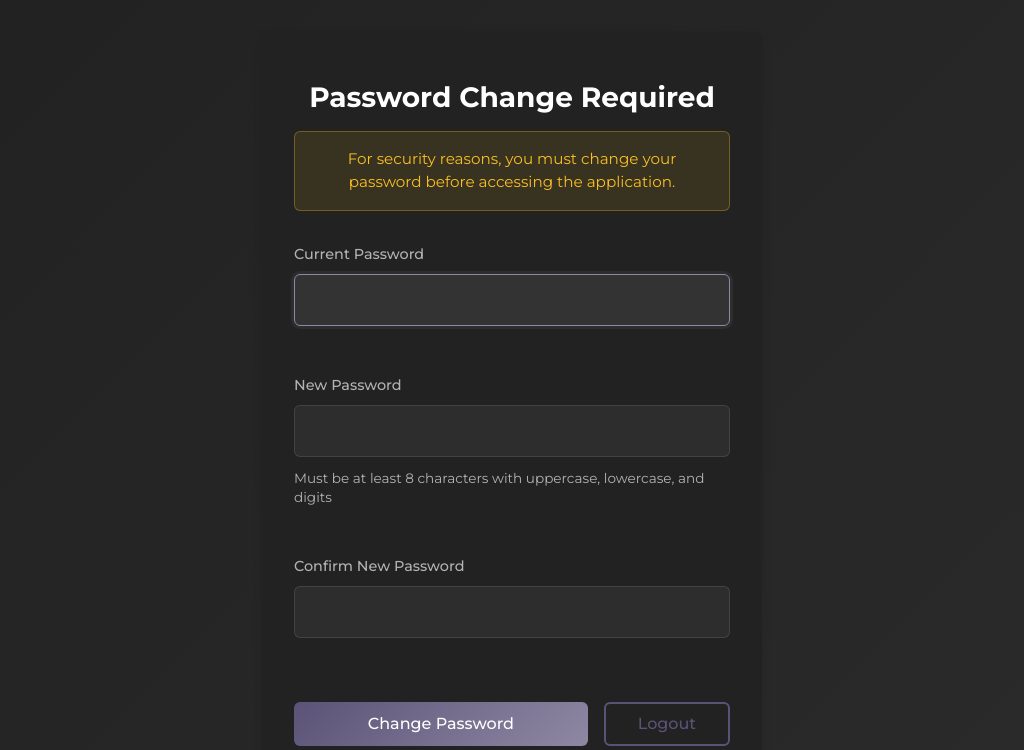
it: ForcePasswordChangePage › Validation › shows error when password is less than 8 characters
Type "OldPass1" into the password field labelled "Current Password" at {"x": 512, "y": 300}, box [294, 274, 730, 326]
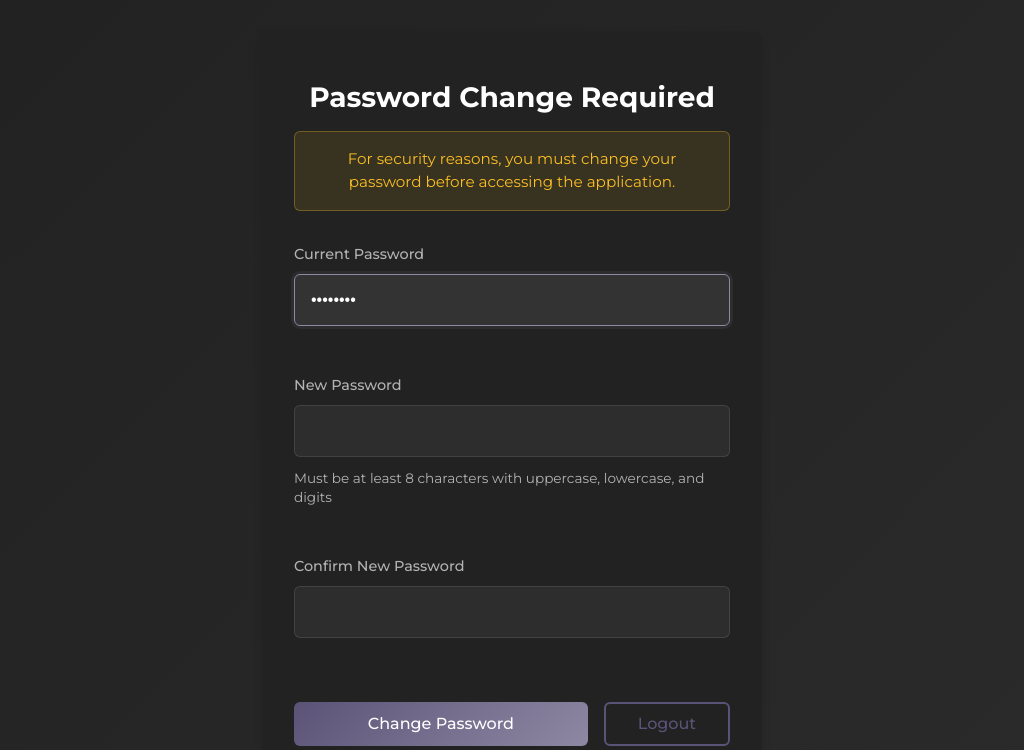
Type "Short1" into the password field labelled "New Password" at {"x": 512, "y": 431}, box [294, 405, 730, 457]
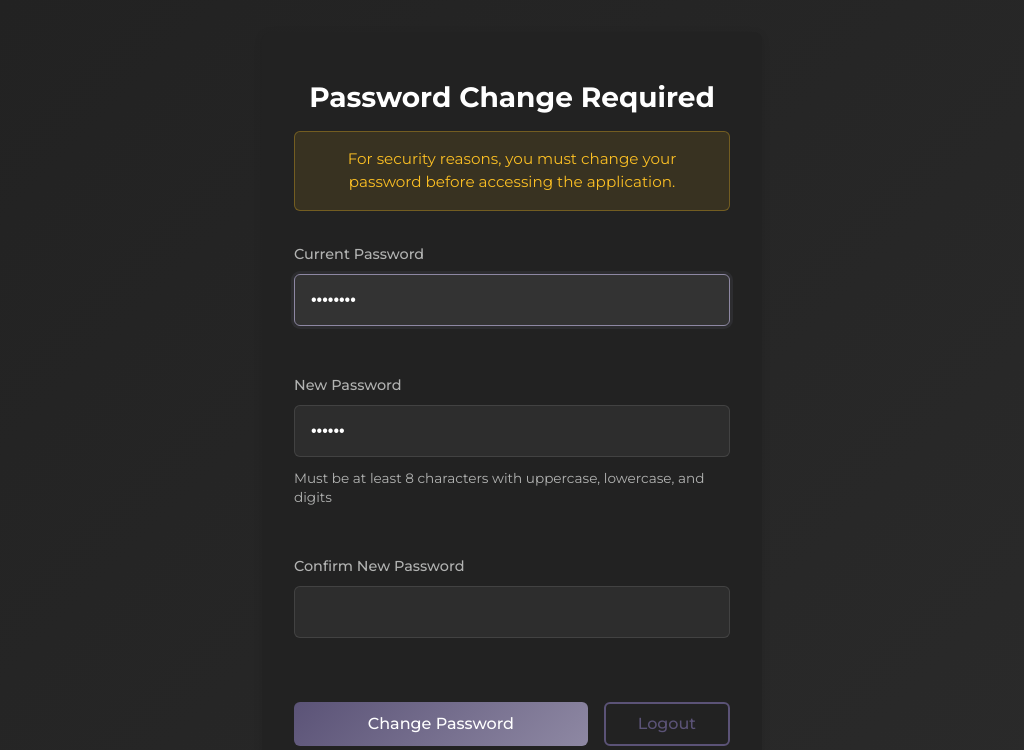
Type "Short1" into the password field labelled "Confirm New Password" at {"x": 512, "y": 612}, box [294, 586, 730, 638]
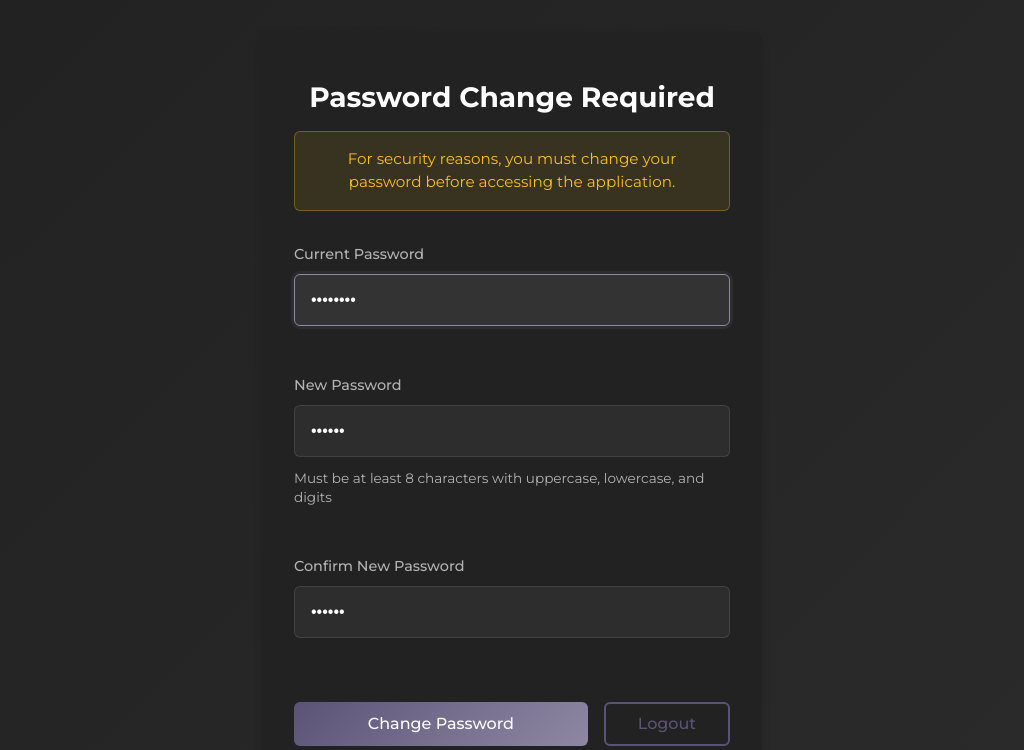
Submit the form named "change password", box [294, 243, 730, 746]
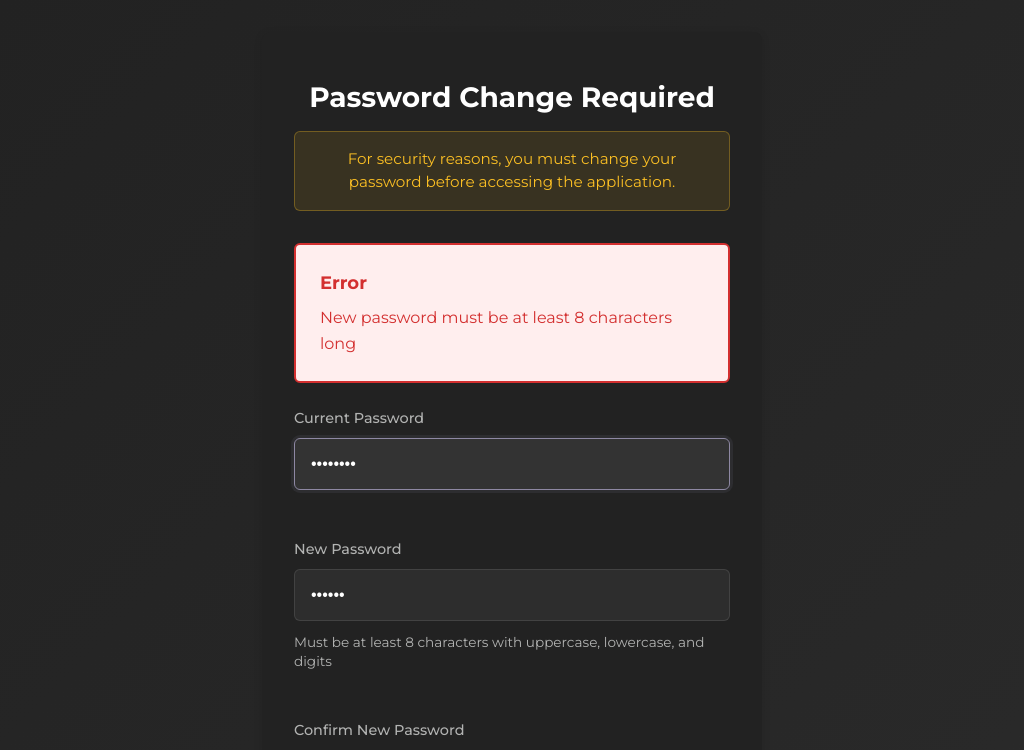
Now the text "New password must be at least 8 characters long" is shown, box [320, 305, 704, 357]
